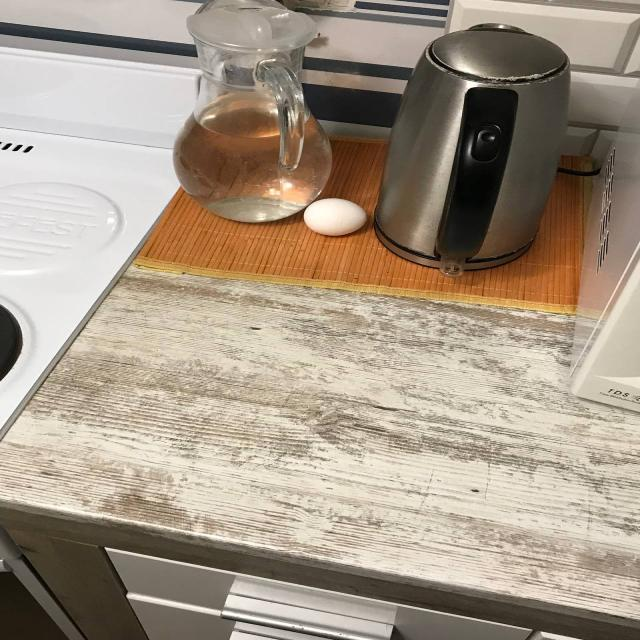egg: (304, 198, 368, 238)
